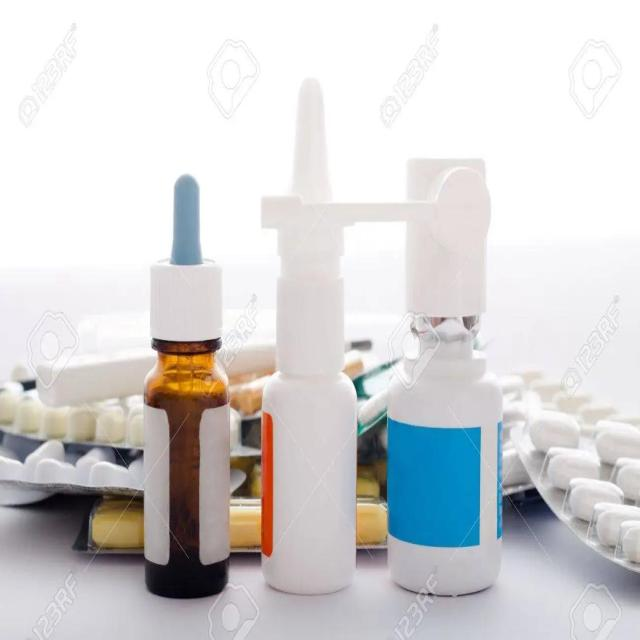B3: (132, 151, 238, 607), (509, 396, 640, 586)
